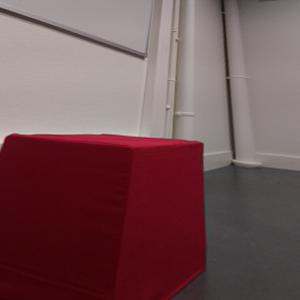medium: (1, 132, 210, 299)
